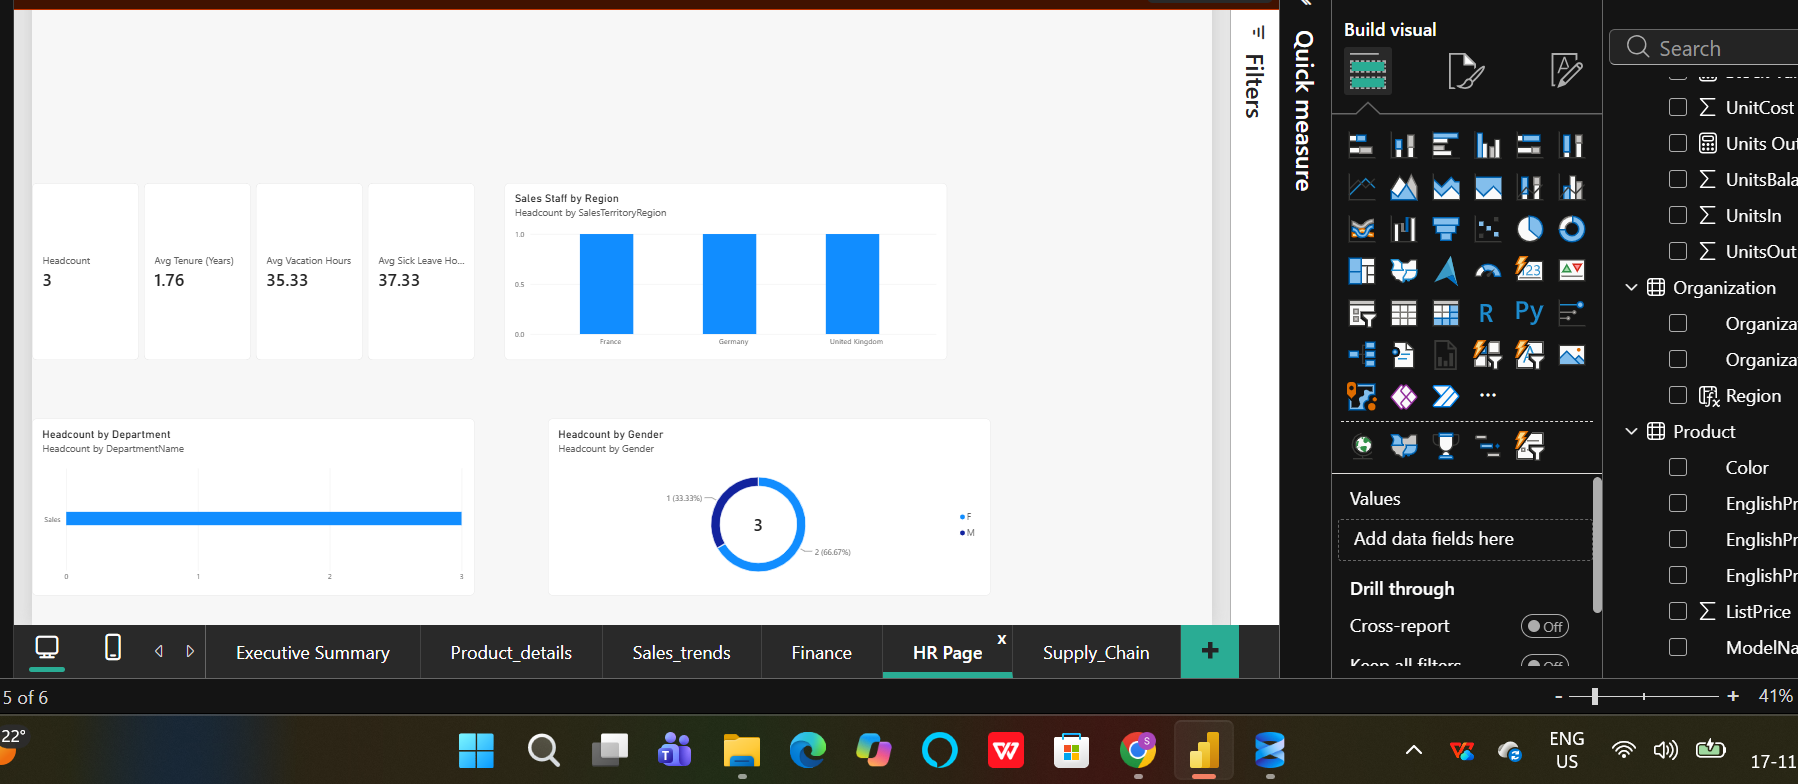

The page's visual inventory and layout, read from the dashboard file:
{"tool":"powerbi","page":{"name":"HR Page","canvas":[1920,1080],"ordinal":4},"visuals":[{"type":"cardVisual","fields":{"Data":["Employee.Headcount","Employee.Avg Tenure (Years)","Employee.Avg Vacation Hours","Employee.Avg Sick Leave Hours"]},"box":[0,120,720,288],"z":0},{"type":"clusteredBarChart","title":"Headcount by Department","fields":{"Category":["Employee.DepartmentName"],"Y":["Employee.Headcount"]},"box":[72,528,720,288],"z":1000},{"type":"clusteredColumnChart","title":"Sales Staff by Region","fields":{"Category":["Territory.SalesTerritoryRegion"],"Y":["Employee.Headcount"]},"box":[936,120,720,288],"z":2000},{"type":"donutChart","title":"Headcount by Gender","fields":{"Category":["Employee.Gender"],"Y":["Employee.Headcount"]},"box":[936,528,720,288],"z":3000}]}

Visuals, with their boxes on the page's 1920x1080 design canvas (x1, y1, x2, y2). These are canvas units, not pixel positions in the 1798x784 screenshot, which may show the page scaled, cropped or inside an application window:
cardVisual - Employee.Headcount x Employee.Avg Tenure (Years): 0, 120, 720, 408
"Headcount by Department" clusteredBarChart: 72, 528, 792, 816
"Sales Staff by Region" clusteredColumnChart: 936, 120, 1656, 408
"Headcount by Gender" donutChart: 936, 528, 1656, 816
